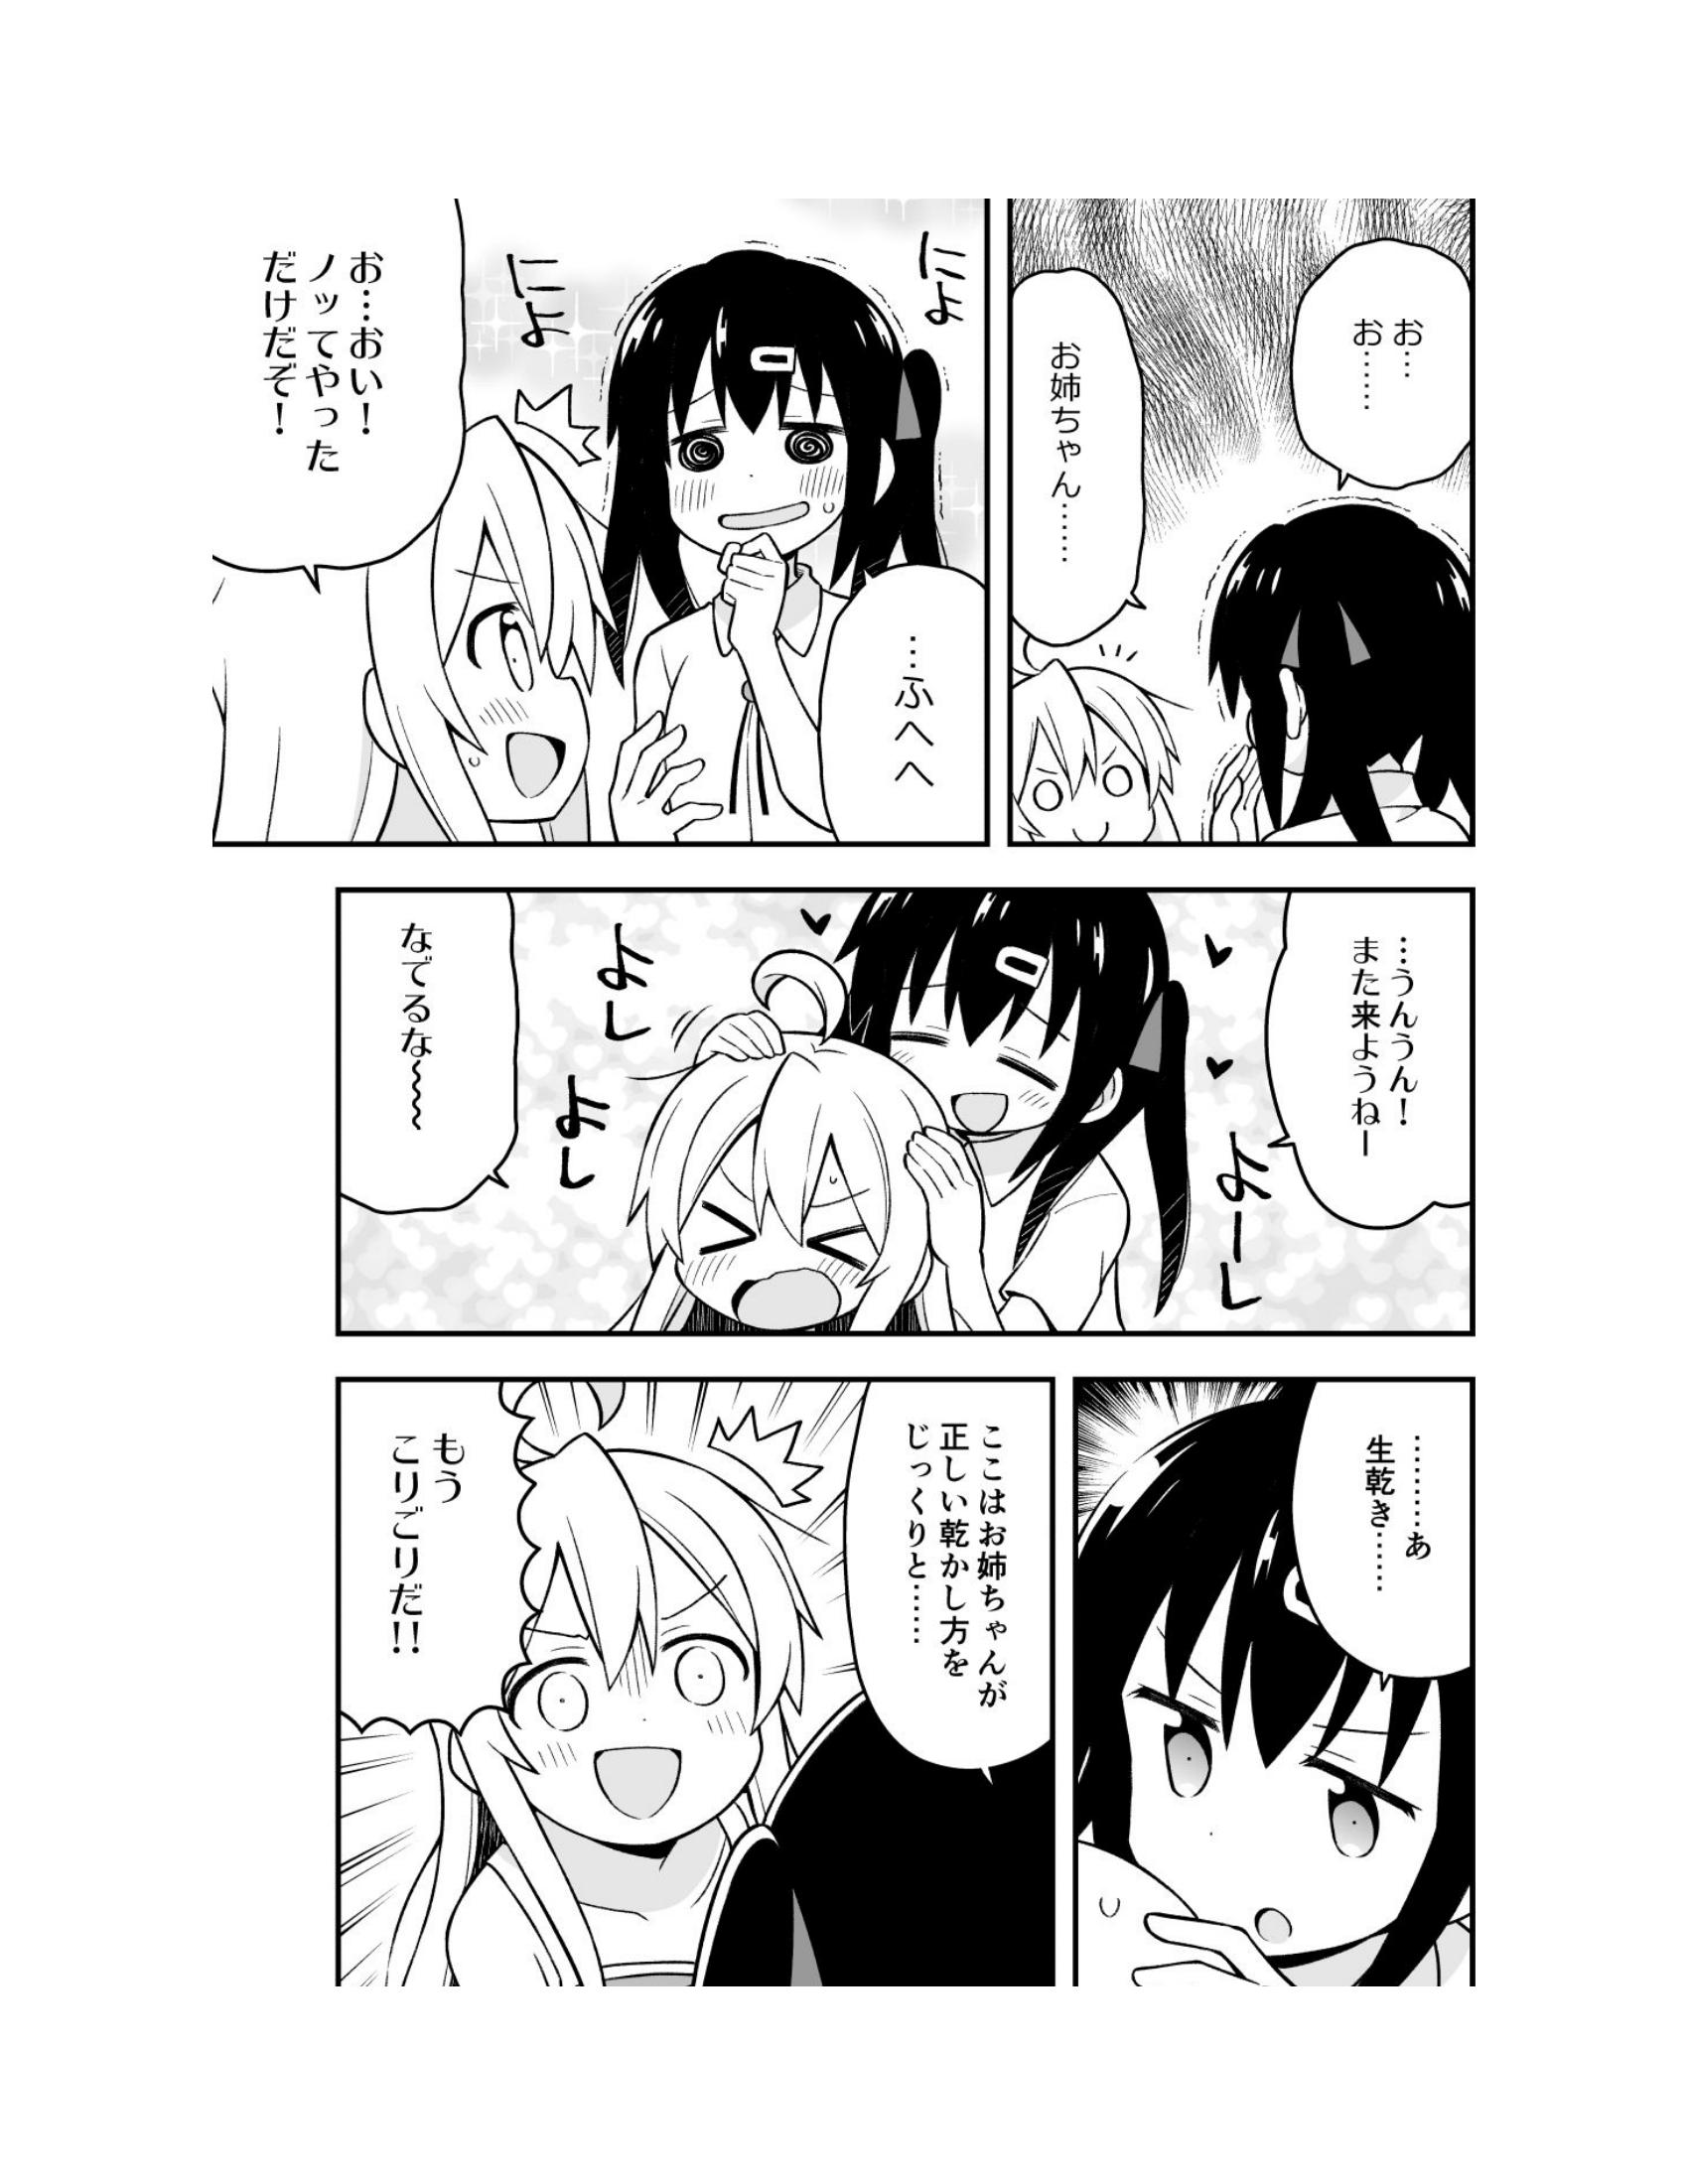a: (826, 1379, 1085, 1773), (220, 218, 507, 565), (321, 1337, 571, 1720), (1241, 892, 1479, 1266), (324, 881, 571, 1228), (1002, 259, 1174, 649), (1280, 232, 1489, 539), (807, 581, 1014, 876), (1305, 1370, 1479, 1679)
